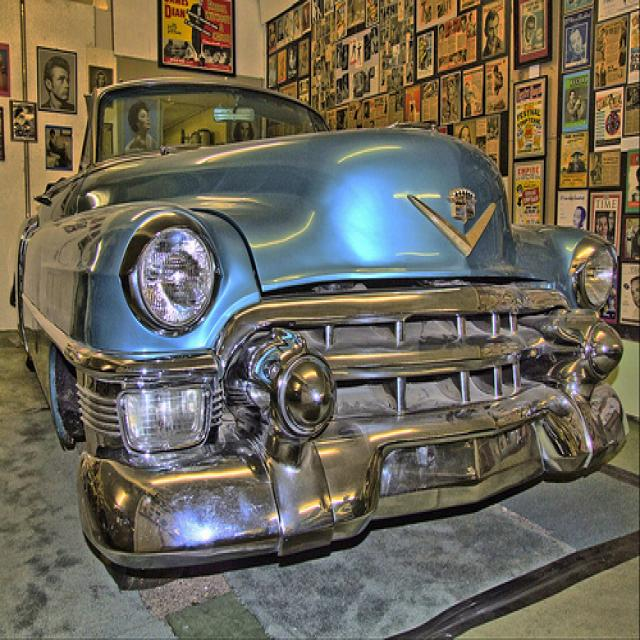Car: (0, 71, 623, 575)
